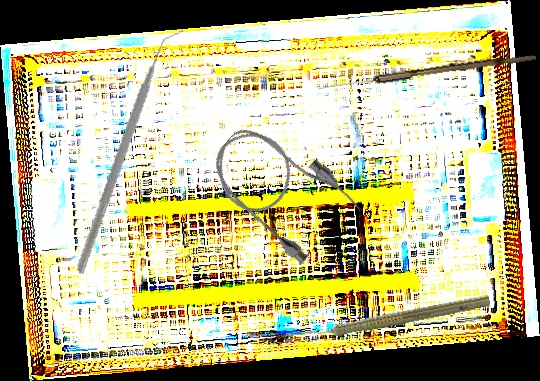Cannula: (196, 106, 368, 272)
Chopper: (33, 28, 229, 276)
Handpiece: (298, 287, 492, 347)
Surgical Spoon: (317, 49, 537, 95)
